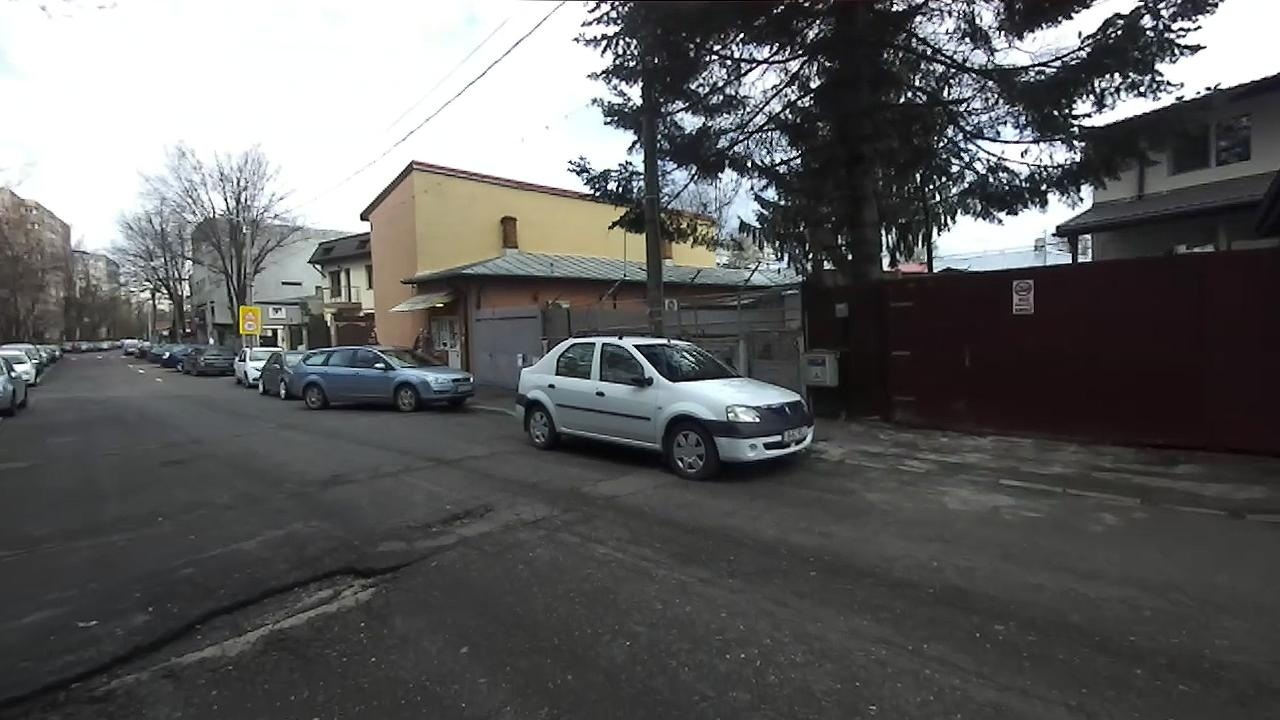pothole: (1, 551, 433, 717), (402, 499, 501, 535)
